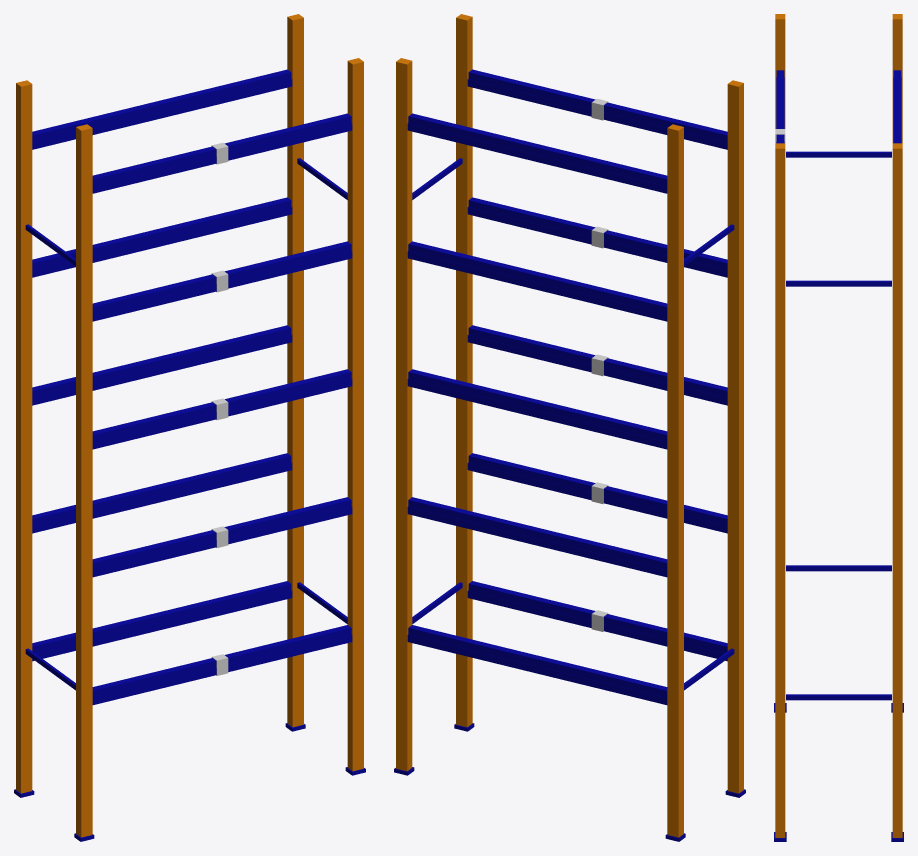
The model's file is high-duty-C25-5.glb.
3 renders of one model, left to right at view 1: azimuth 30°, elevation 25°; view 2: azimuth 150°, elevation 25°; view 3: azimuth 270°, elevation 25°, orthographic. The views are drawn at different scales.
Visible parts, largest first — view 1: part_0, part_4, part_2, part_6, part_30, part_8, part_28, part_13, part_23, part_18, part_15, part_20 (+12 smaller); view 2: part_4, part_0, part_6, part_2, part_10, part_30, part_20, part_15, part_25, part_28, part_13, part_18 (+12 smaller); view 3: part_2, part_6, part_4, part_0, part_33, part_34, part_35, part_36, part_30, part_28.
Part boxes in pixels (x1=…): part_0: x1=76, y1=124, x2=92, y2=837; part_4: x1=16, y1=80, x2=32, y2=793; part_2: x1=347, y1=58, x2=363, y2=771; part_6: x1=287, y1=14, x2=303, y2=727; part_30: x1=32, y1=69, x2=291, y2=142; part_8: x1=92, y1=625, x2=351, y2=697; part_28: x1=92, y1=113, x2=351, y2=186; part_13: x1=92, y1=497, x2=351, y2=569; part_23: x1=92, y1=241, x2=351, y2=314; part_18: x1=92, y1=369, x2=351, y2=441; part_15: x1=32, y1=453, x2=291, y2=526; part_20: x1=32, y1=325, x2=291, y2=398; part_4: x1=667, y1=124, x2=683, y2=837; part_0: x1=727, y1=80, x2=743, y2=793; part_6: x1=396, y1=58, x2=412, y2=771; part_2: x1=456, y1=14, x2=472, y2=727; part_10: x1=408, y1=625, x2=667, y2=697; part_30: x1=408, y1=113, x2=667, y2=186; part_20: x1=408, y1=369, x2=667, y2=441; part_15: x1=408, y1=497, x2=667, y2=569; part_25: x1=408, y1=241, x2=667, y2=314; part_28: x1=468, y1=69, x2=727, y2=142; part_13: x1=468, y1=453, x2=727, y2=526; part_18: x1=468, y1=325, x2=727, y2=398; part_2: x1=775, y1=143, x2=785, y2=837; part_6: x1=892, y1=143, x2=902, y2=837; part_4: x1=892, y1=14, x2=902, y2=143; part_0: x1=775, y1=14, x2=785, y2=128; part_33: x1=786, y1=565, x2=891, y2=571; part_34: x1=786, y1=151, x2=891, y2=157; part_35: x1=786, y1=694, x2=891, y2=700; part_36: x1=786, y1=280, x2=891, y2=286; part_30: x1=893, y1=70, x2=901, y2=143; part_28: x1=776, y1=70, x2=784, y2=143.
Bounding box in the file's own units: 2520 × 6000 × 1020.
